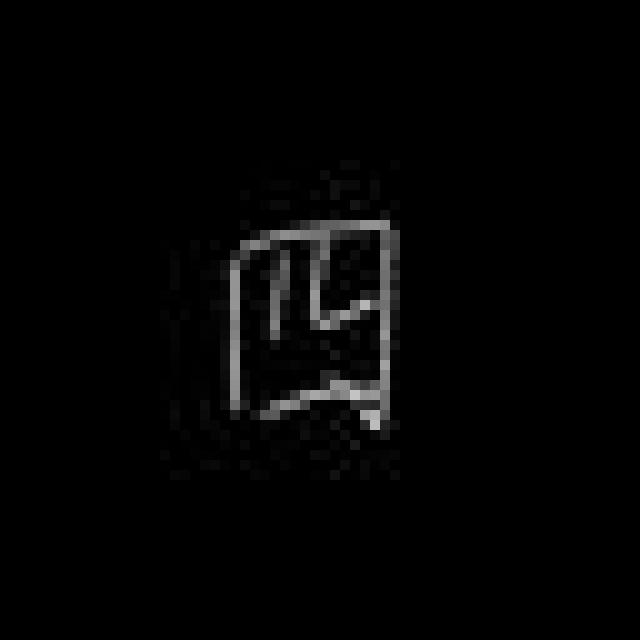4 -four-: (210, 206, 414, 452)
